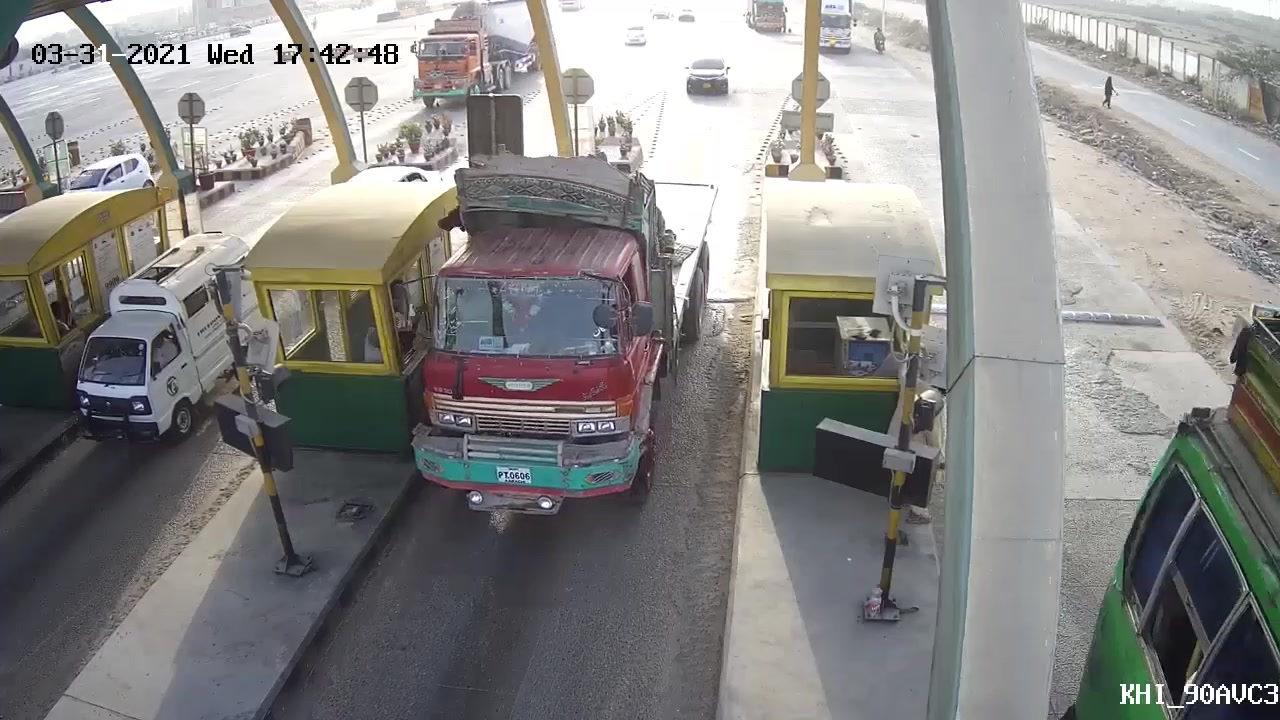F5: (408, 152, 719, 520)
